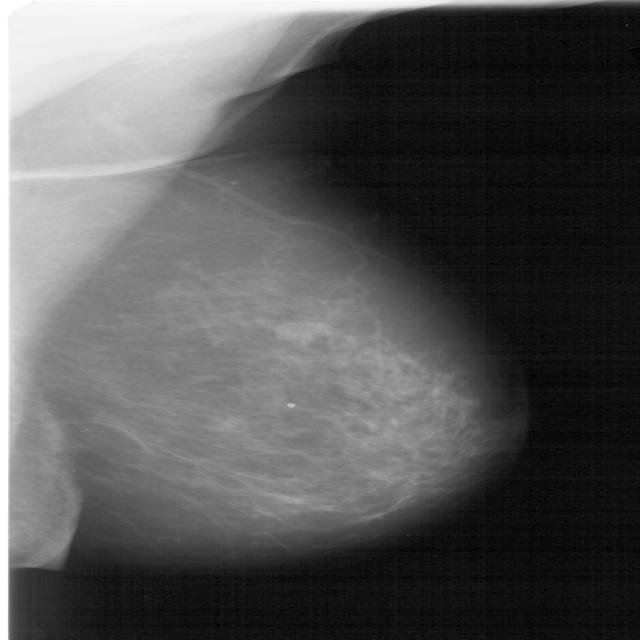tumour: (272, 318, 331, 342)
